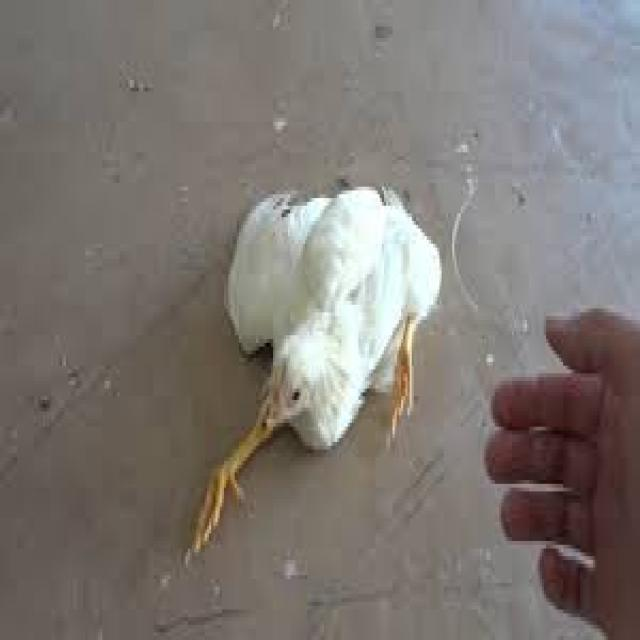AbNormal: (190, 186, 438, 545)
